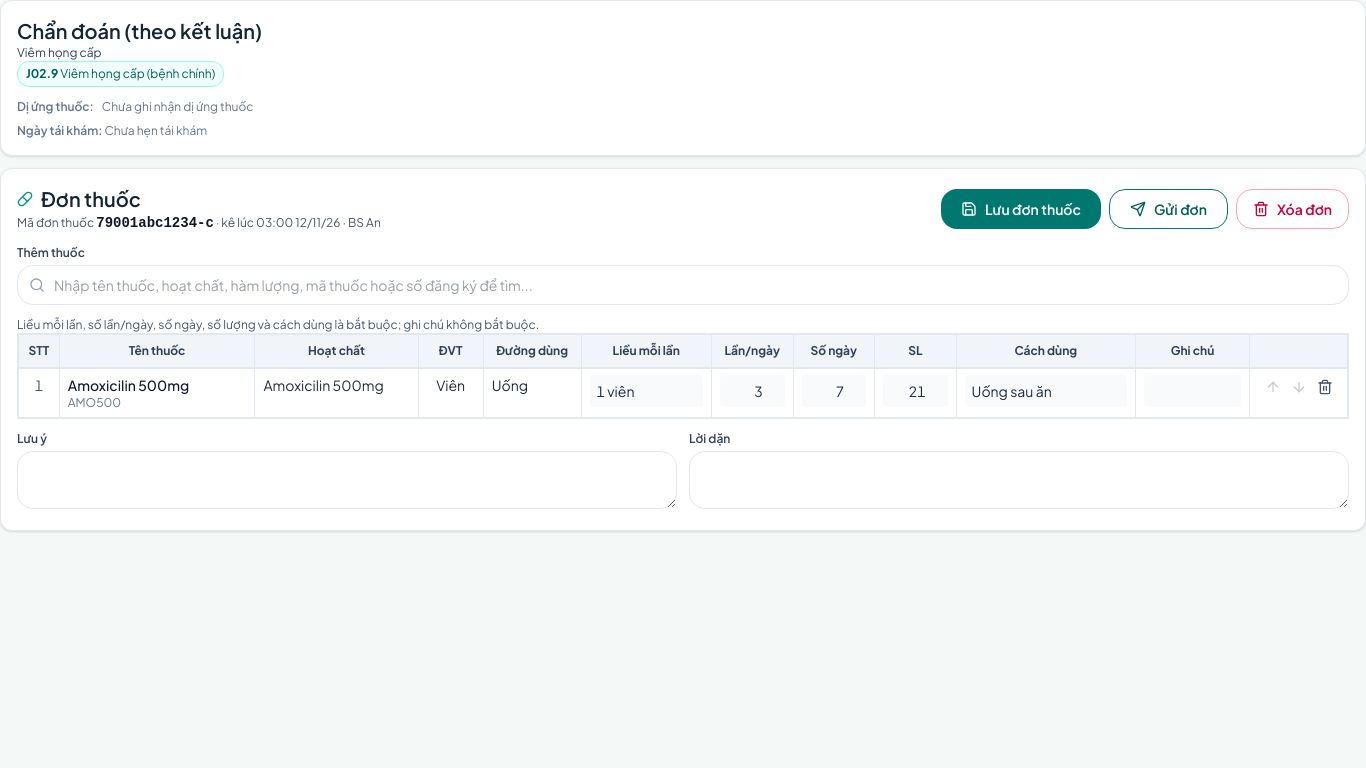
Test case: PrescriptionPanel (UC-90 Gửi đơn thuốc điện tử) › sends without a password while the national token is kept and shows the accepted send
Click the button "Gửi đơn": (1168, 209) [1109, 189, 1228, 229]
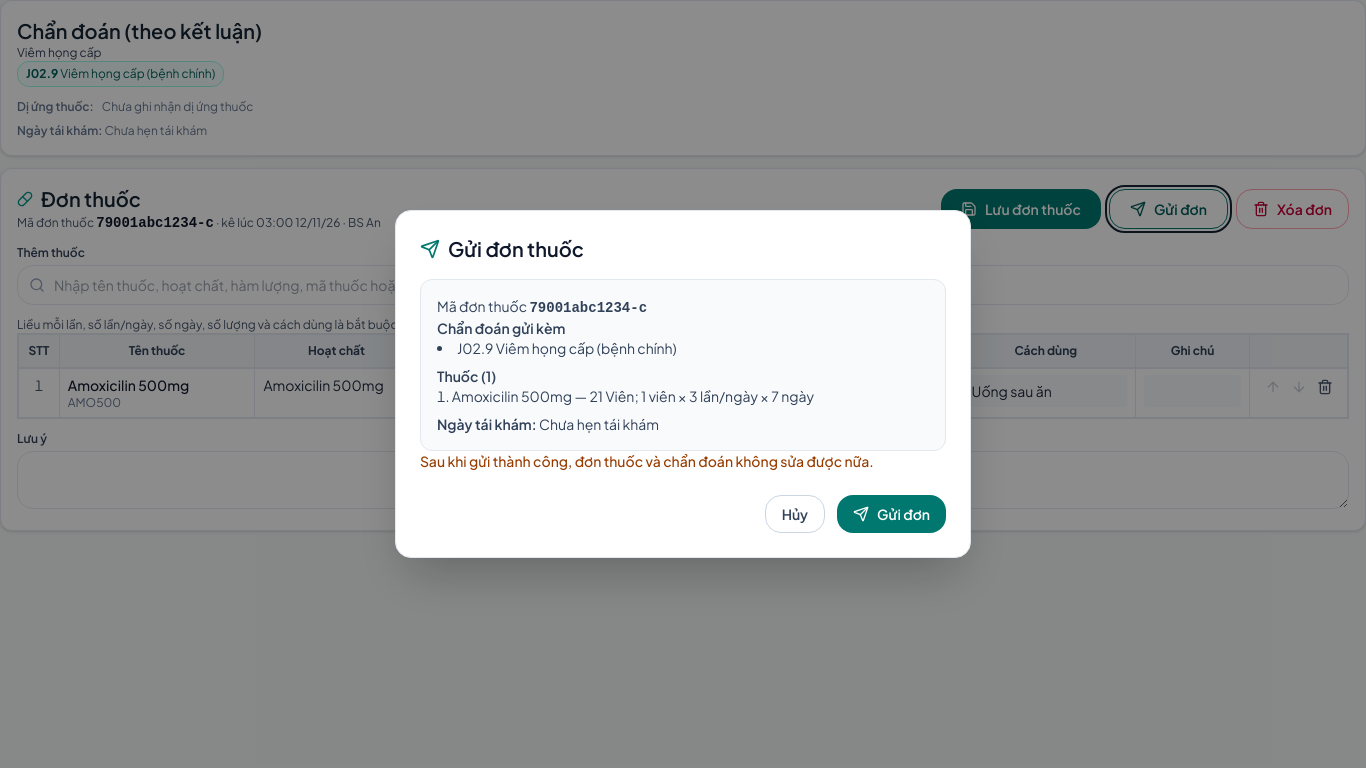
Now the text "Sau khi gửi thành công, đơn thuốc và chẩn đoán không sửa được nữa." is shown, box [420, 451, 946, 471]
Click the button "Gửi đơn": (892, 514) [837, 495, 946, 533]
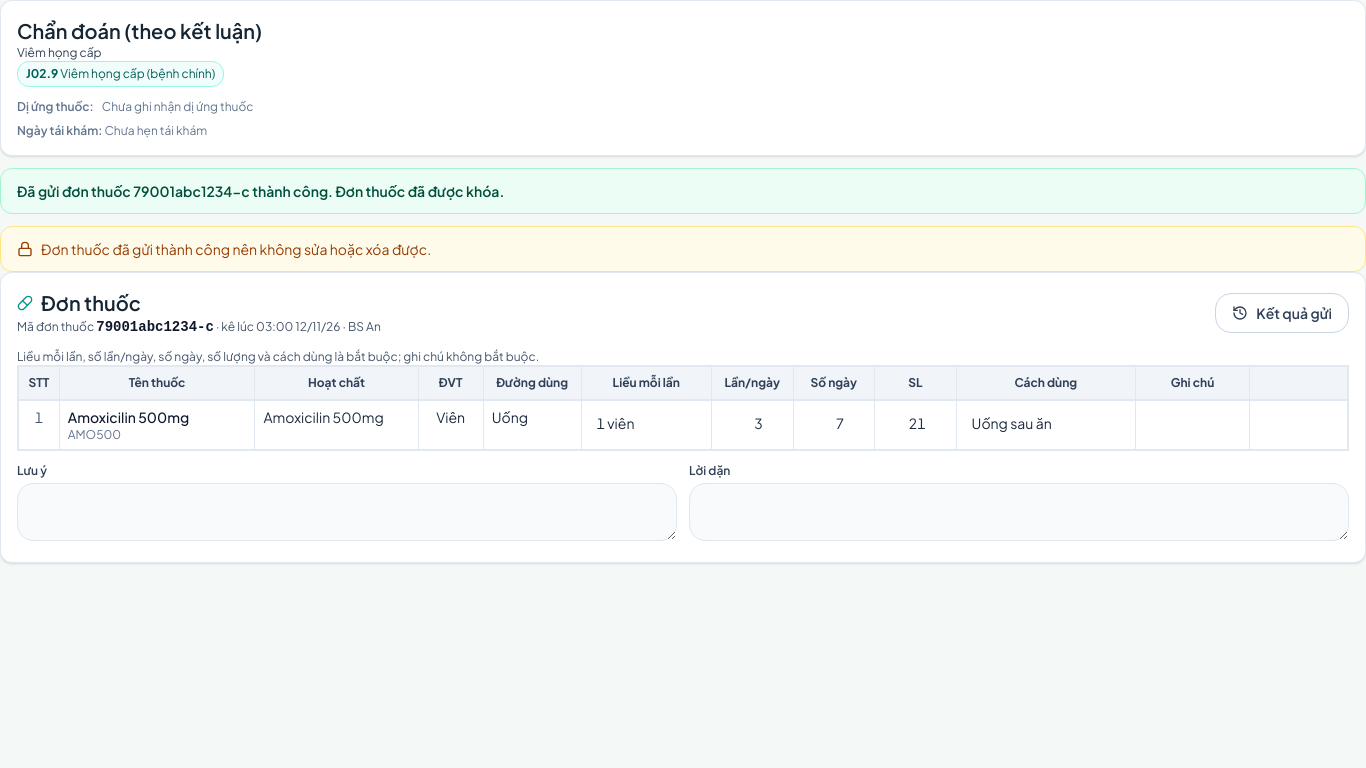
Now the dialog is gone
